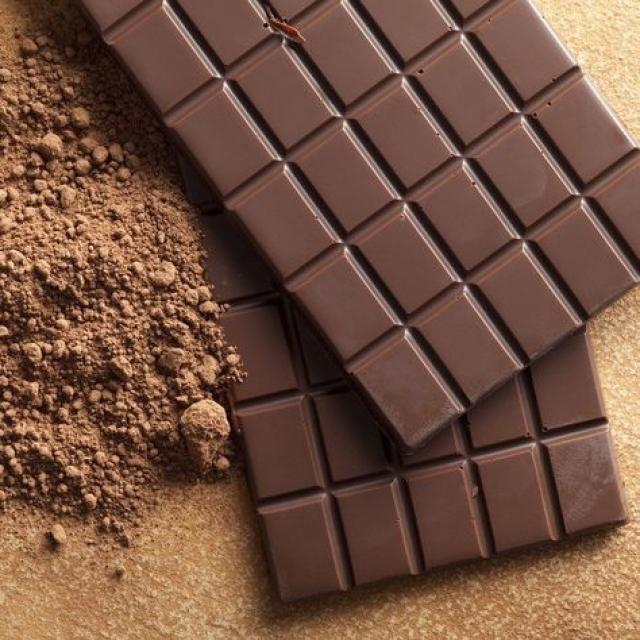Chocolate: (174, 0, 626, 604), (71, 0, 640, 461)
